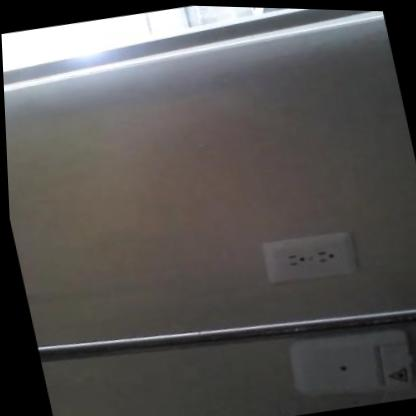OUTLET: (259, 229, 356, 286)
